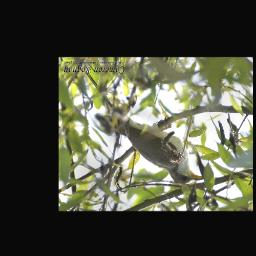Cuckoo: (86, 71, 205, 185)
